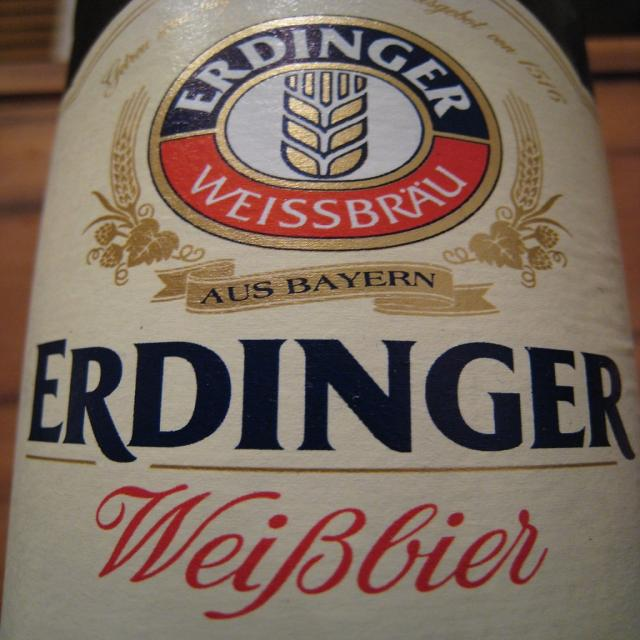erdinger: (24, 2, 640, 481)
